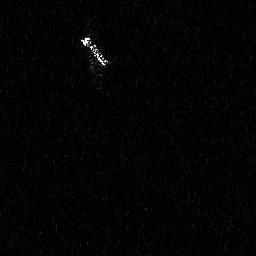ship: (79, 32, 111, 69)
